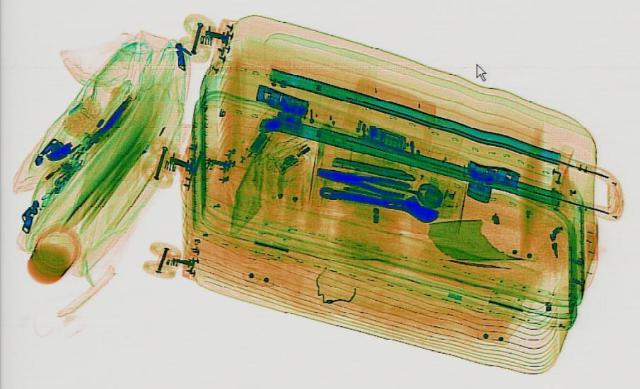Pliers: (308, 162, 412, 197)
Wrench: (309, 178, 445, 223)
